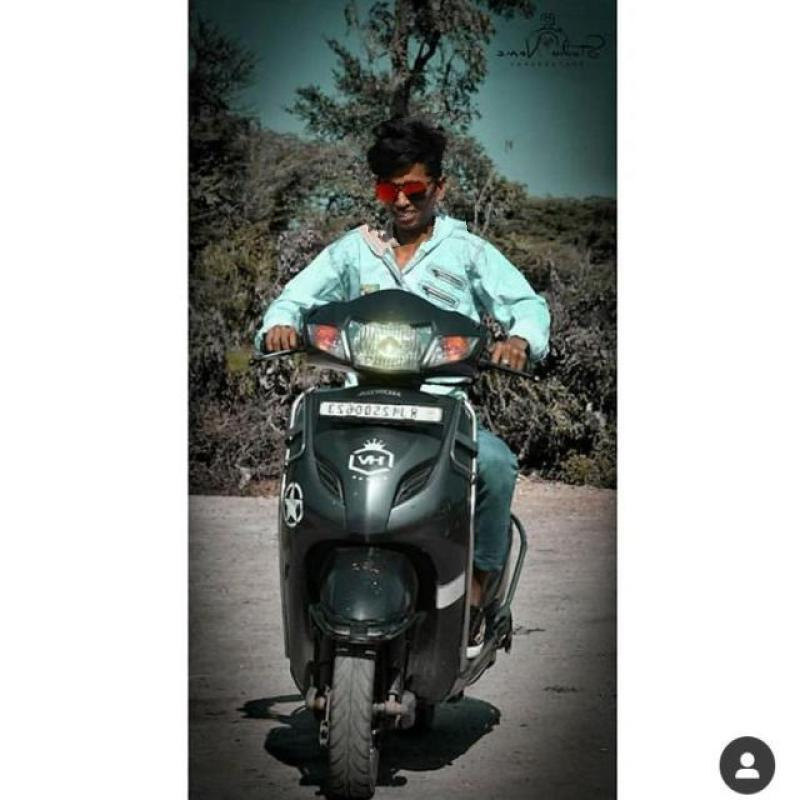nohelmet: (356, 114, 464, 248)
